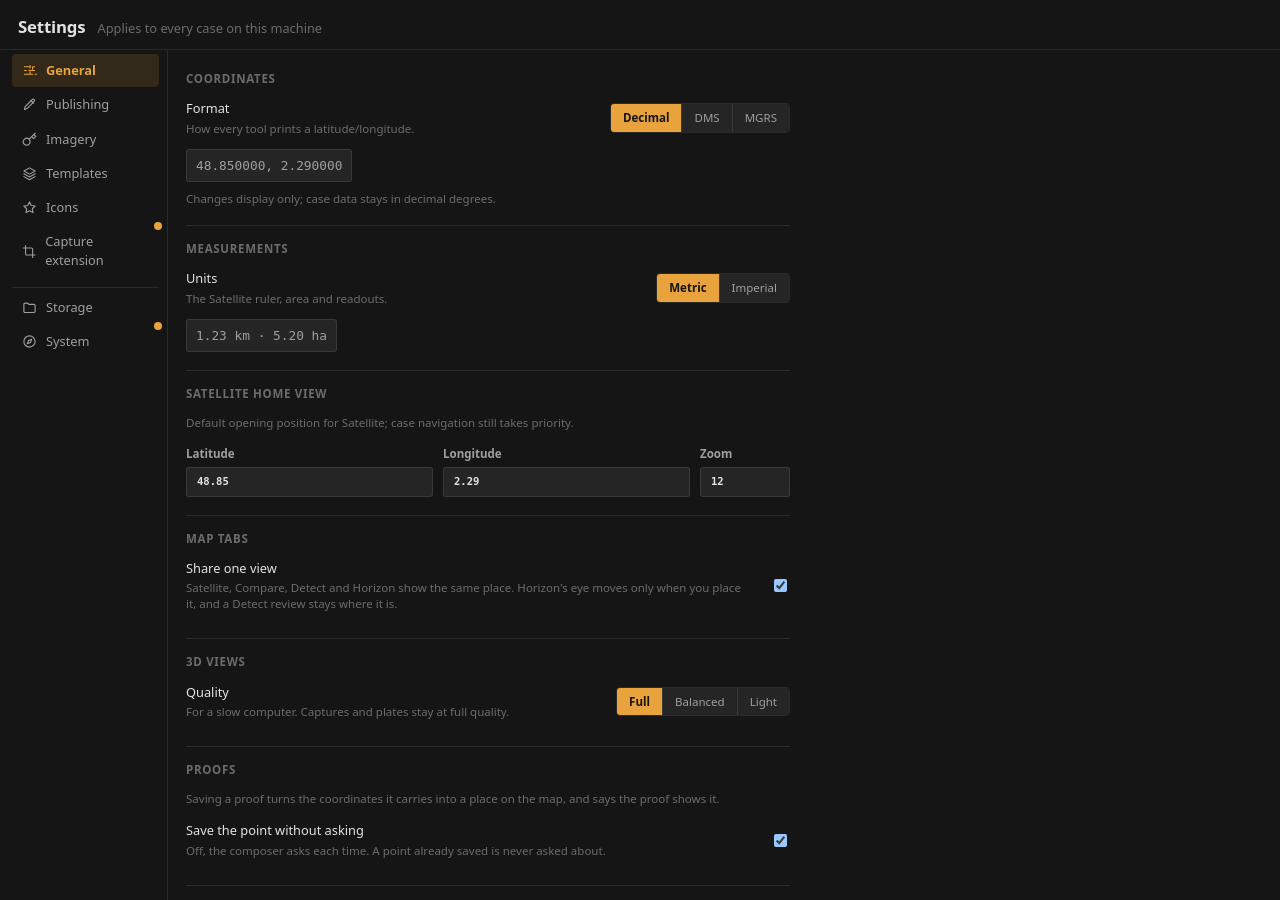
Scenario: post templates › offers starting layouts for a new template, and not for one that exists
What coordinates should you click on to do the following:
click the button with class "rail-tab" showing "Templates"
I would click on:
 (86, 173)
Its box is x1=12 y1=157 x2=159 y2=190.
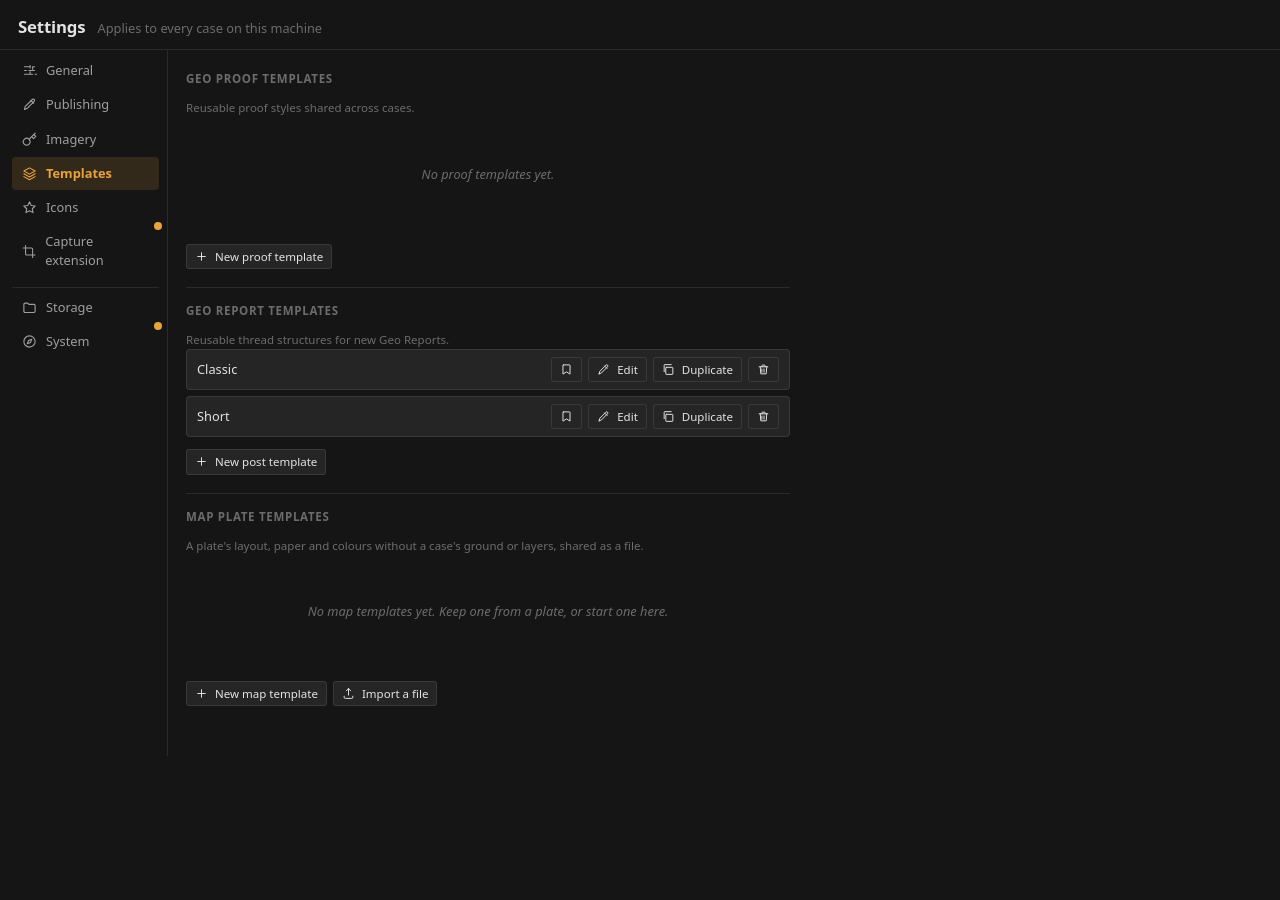
What coordinates should you click on to do the following:
click the button "New post template"
I would click on:
 (256, 462)
Its box is x1=186 y1=449 x2=326 y2=474.
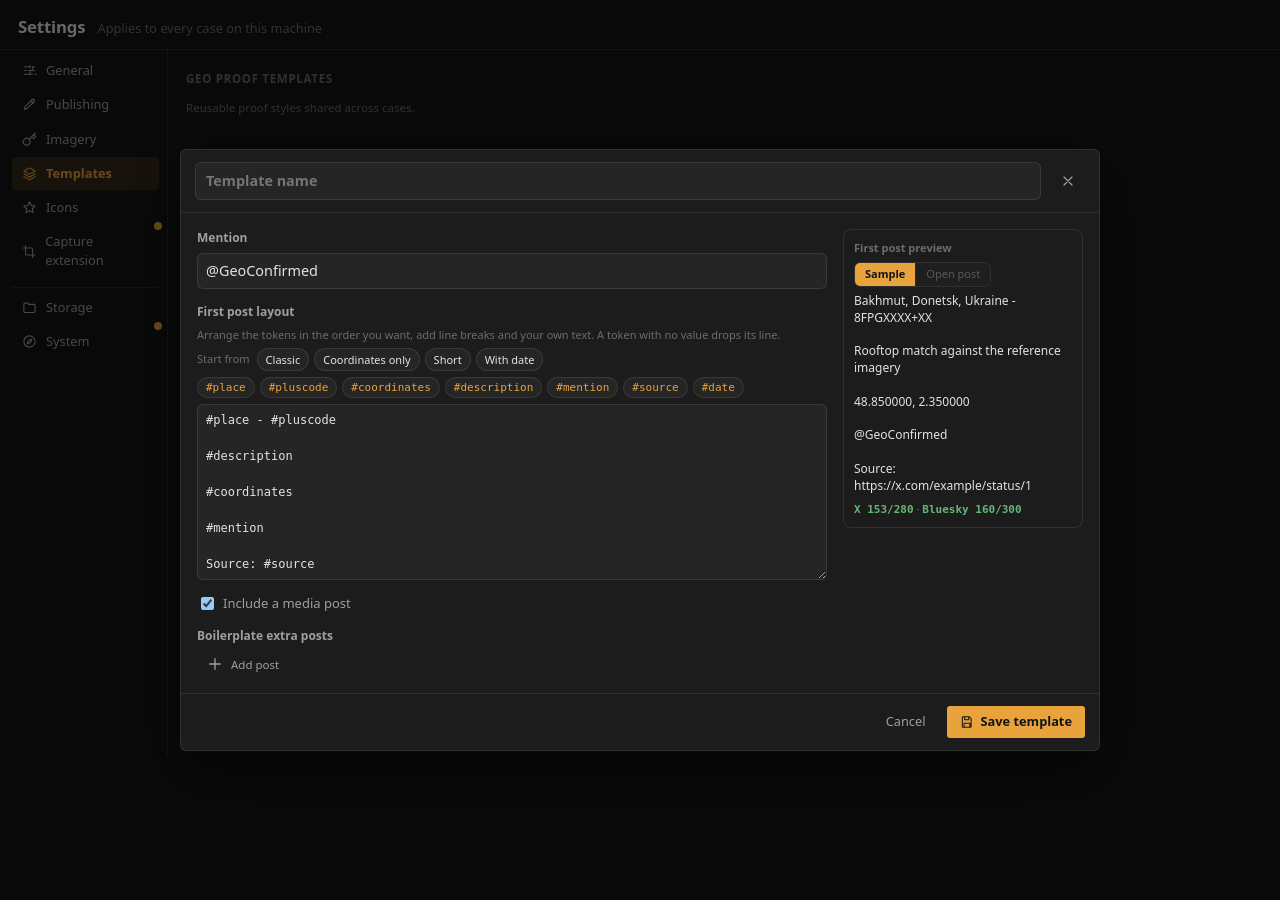
Check: the element with class "starters" is shown, box x1=197 y1=348 x2=543 y2=371
What coordinates should you click on to do the following:
click the button with class "btn-ghost" showing "Cancel"
I would click on:
 (906, 722)
Its box is x1=873 y1=706 x2=938 y2=738.
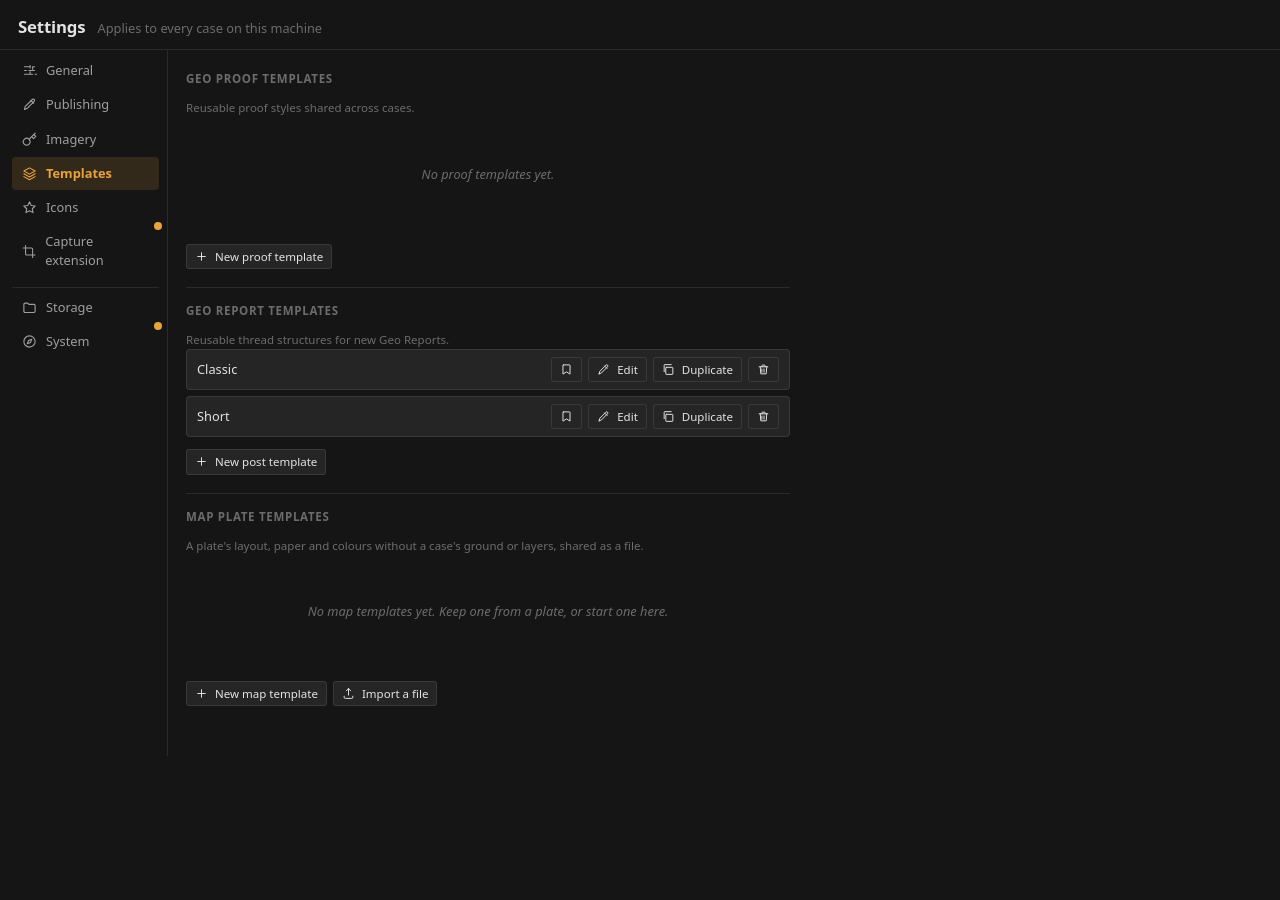
What coordinates should you click on to do the following:
click the button "Edit" in the row of "Classic"
I would click on:
 (618, 369)
Its box is x1=588 y1=357 x2=647 y2=382.
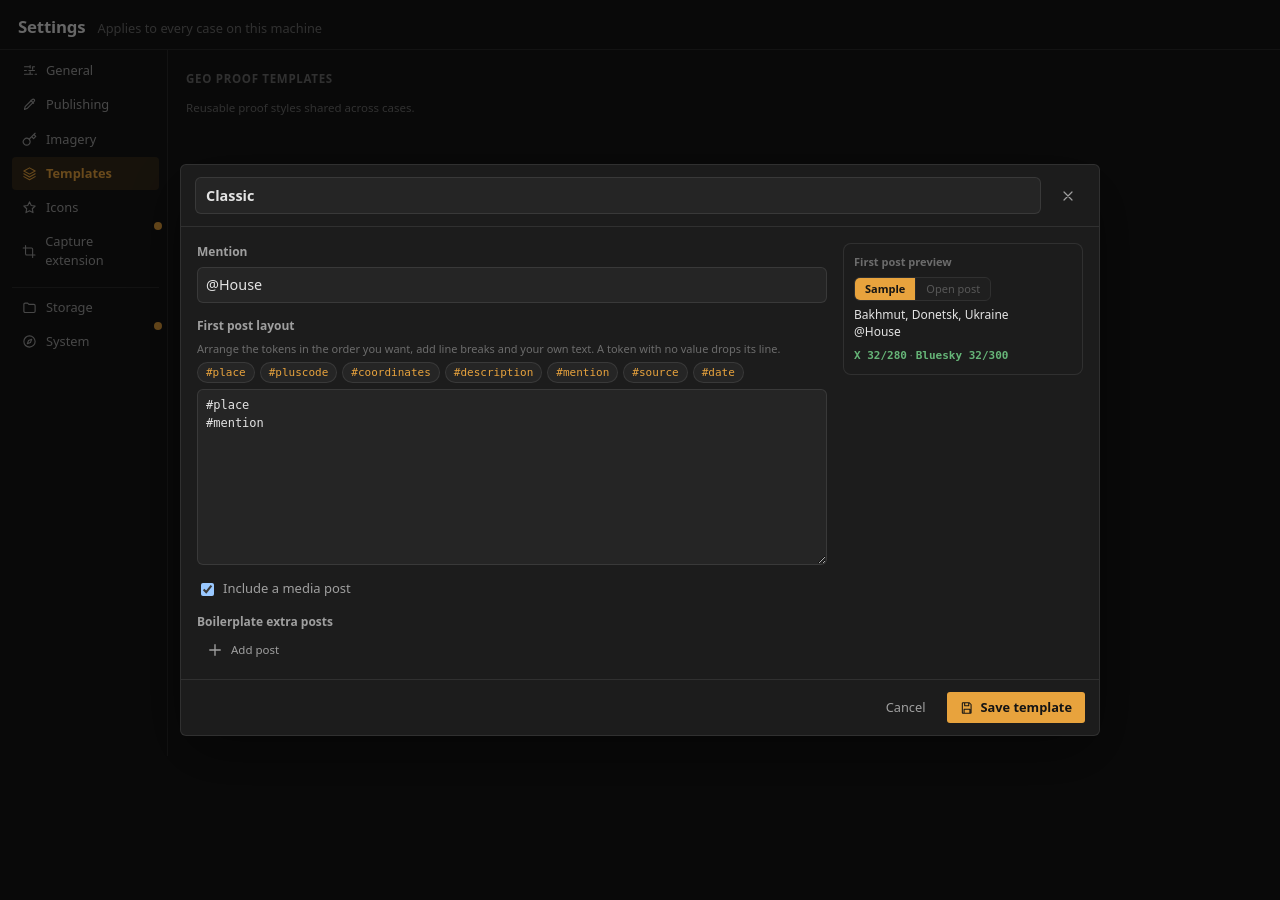
Check: the element with class "tpl-modal" is shown, box x1=180 y1=164 x2=1100 y2=736
